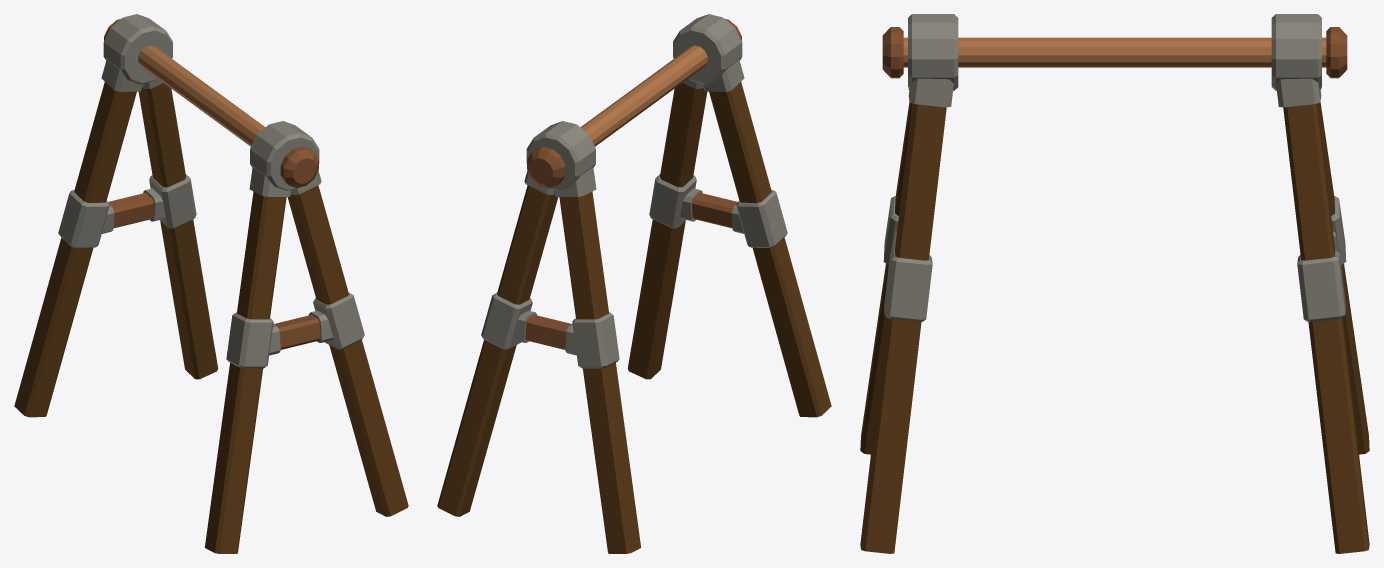
Rendered from Prop_Obstacle_Hammer_Housing_Double.obj.
The picture shows the model from 3 angles, left to right: view 1: azimuth 30°, elevation 25°; view 2: azimuth 150°, elevation 25°; view 3: azimuth 270°, elevation 25°; orthographic projection. The views are drawn at different scales.
Visible parts, largest first — view 1: Frame_Support_Beam, Frame_Support_Brace, Hammer_Swing_Brace, Hammer_Swing_Bar, Frame_Support_Crossbeam, Hammer_Swing_Bar_Endcap; view 2: Frame_Support_Beam, Frame_Support_Brace, Hammer_Swing_Brace, Hammer_Swing_Bar, Frame_Support_Crossbeam, Hammer_Swing_Bar_Endcap; view 3: Frame_Support_Beam, Hammer_Swing_Bar, Hammer_Swing_Brace, Frame_Support_Brace, Hammer_Swing_Bar_Endcap.
Boxes of the visible parts, x1,y1,x2,y2 form: Frame_Support_Beam: [14, 82, 408, 553]; Frame_Support_Brace: [58, 174, 364, 368]; Hammer_Swing_Brace: [101, 14, 321, 196]; Hammer_Swing_Bar: [138, 45, 265, 146]; Frame_Support_Crossbeam: [108, 192, 320, 349]; Hammer_Swing_Bar_Endcap: [104, 19, 318, 187]; Frame_Support_Beam: [437, 82, 831, 553]; Frame_Support_Brace: [481, 174, 787, 368]; Hammer_Swing_Brace: [524, 14, 744, 196]; Hammer_Swing_Bar: [580, 45, 707, 146]; Frame_Support_Crossbeam: [525, 192, 737, 349]; Hammer_Swing_Bar_Endcap: [527, 19, 741, 187]; Frame_Support_Beam: [860, 102, 1369, 553]; Hammer_Swing_Bar: [903, 37, 1326, 67]; Hammer_Swing_Brace: [908, 14, 1321, 107]; Frame_Support_Brace: [883, 196, 1346, 321]; Hammer_Swing_Bar_Endcap: [882, 27, 1347, 78].
Size of the model in its own units: 2.49 by 4.76 by 4.55.
